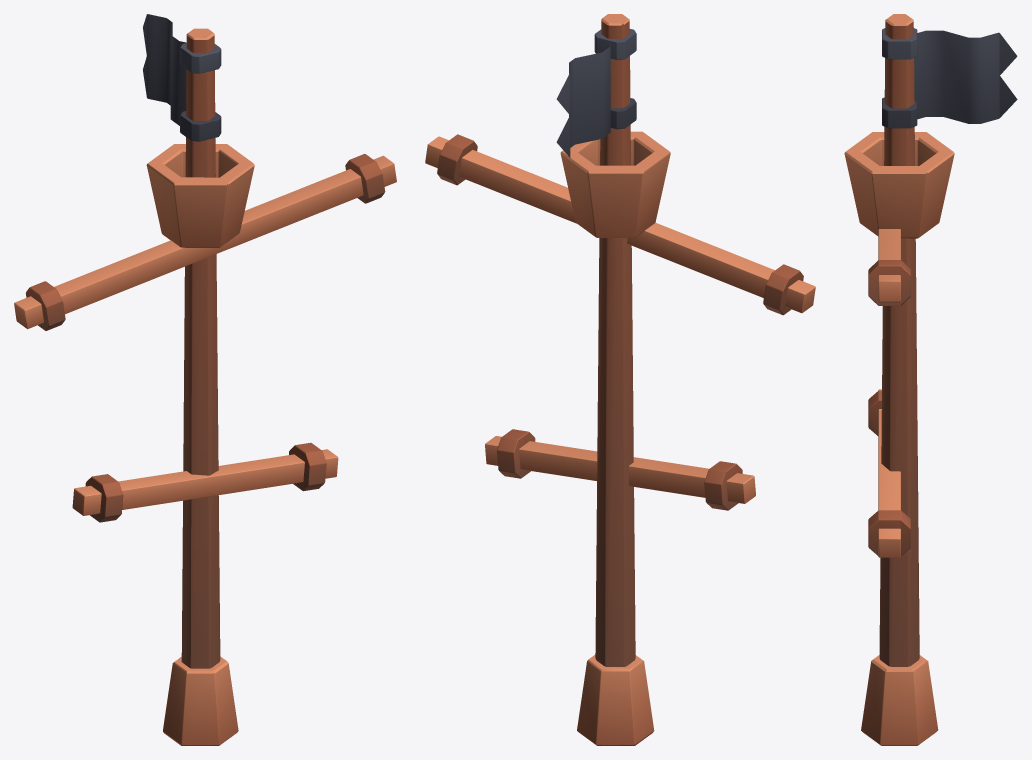
The model's file is kenney-pirate__mast.glb.
The picture shows the model from 3 angles, left to right: view 1: azimuth 30°, elevation 25°; view 2: azimuth 150°, elevation 25°; view 3: azimuth 270°, elevation 25°; orthographic projection. The views are drawn at different scales.
Parts seen in each view (by area): view 1: mast, sail-a, flag-c; view 2: mast, sail-a, flag-c; view 3: mast, flag-c, sail-a.
Boxes of the visible parts, <box> form: mast: <box>146,28,254,745</box>; sail-a: <box>14,154,396,522</box>; flag-c: <box>143,14,221,141</box>; mast: <box>560,14,670,745</box>; sail-a: <box>425,134,815,510</box>; flag-c: <box>556,29,636,157</box>; mast: <box>844,14,954,745</box>; flag-c: <box>882,28,1017,128</box>; sail-a: <box>868,229,910,557</box>.
Size of the model in its own units: 4.38 by 7.86 by 1.73.
Materials: 1 (1 with a texture image).
